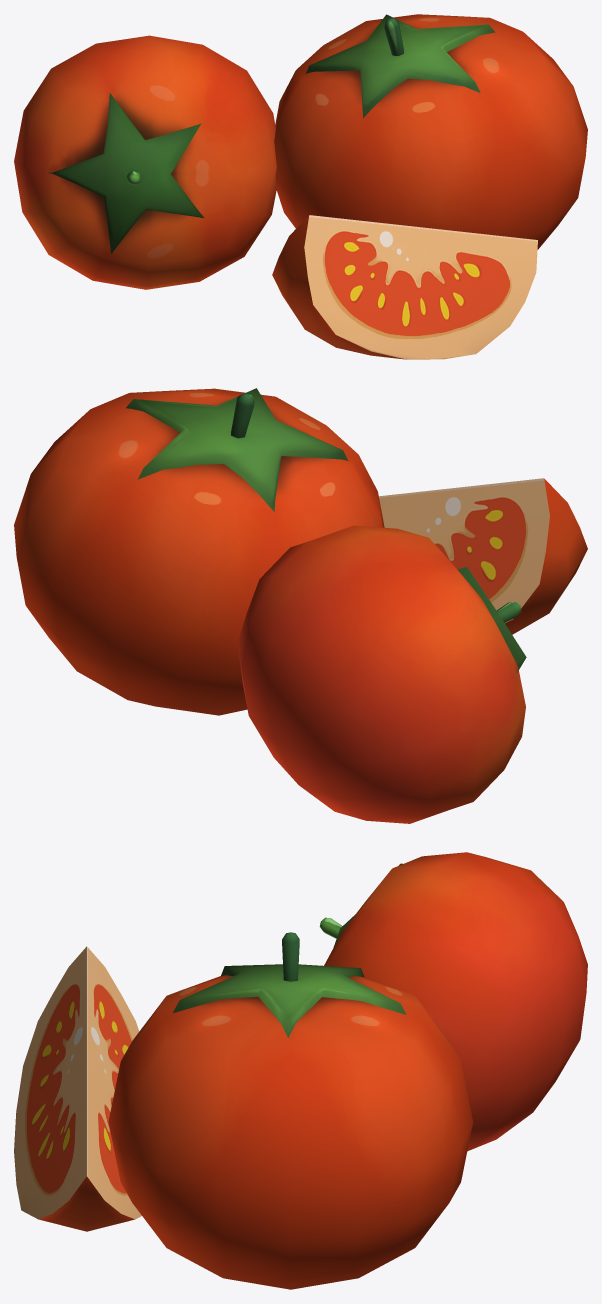
File: Tomato.fbx
3 views of the same model, one above another, from view 1: azimuth 30°, elevation 25°; view 2: azimuth 150°, elevation 25°; view 3: azimuth 270°, elevation 25° (orthographic). The views are drawn at different scales.
Parts seen in each view (by area): view 1: 056; view 2: 056; view 3: 056.
Boxes of the visible parts, <box> form: 056: <box>14,14,587,359</box>; 056: <box>14,388,587,823</box>; 056: <box>14,852,587,1289</box>.
Bounding box in the file's own units: 44.01 × 23.63 × 39.18.
Materials: 1 (1 with a texture image).
